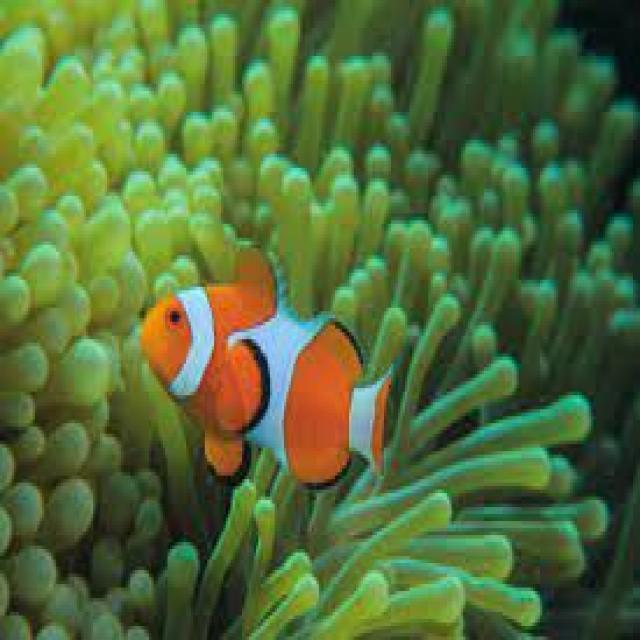ClownFish: (140, 248, 390, 493)
